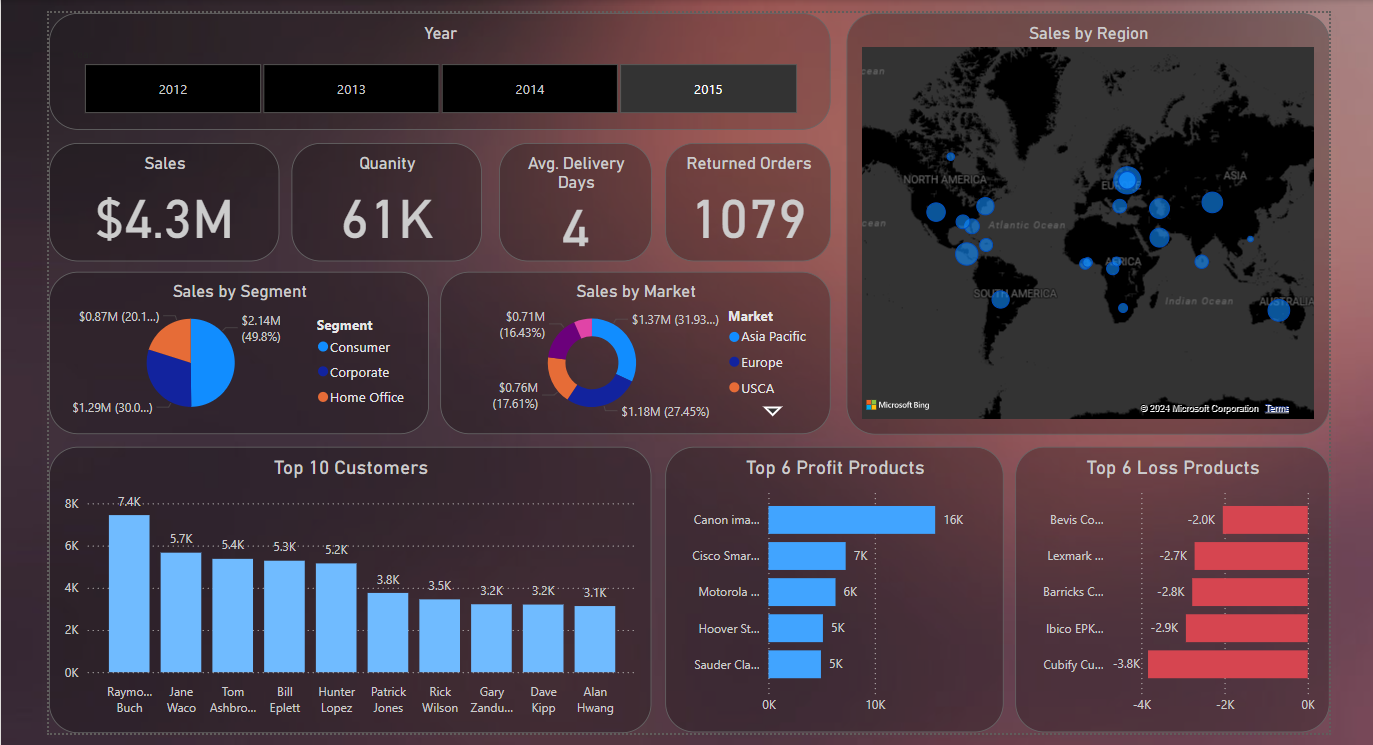

Layout of this report page (visuals, bound fields, positions):
{"tool":"powerbi","page":{"name":"Page 1","canvas":[1280,720],"ordinal":0},"visuals":[{"type":"card","title":"Sales","fields":{"Values":["Orders.Sales"]},"box":[0,130,230,118.6],"z":0},{"type":"card","title":"Quanity","fields":{"Values":["Orders.Quantity"]},"box":[242.9,130,190,118.6],"z":1000},{"type":"card","title":"Avg. Delivery Days","fields":{"Values":["Orders.delivery Days"]},"box":[450,130,152.9,118.6],"z":2000},{"type":"slicer","title":"Year","fields":{"Values":["Orders.Year"]},"box":[0,0,781.4,117.1],"z":3000},{"type":"card","title":"Returned Orders","fields":{"Values":["Returns.Return Orders"]},"box":[615.7,130,165.7,118.6],"z":4000},{"type":"map","title":"Sales by Region","fields":{"Category":["Orders.Region"],"Size":["Orders.Sales"]},"box":[797.1,0,482.9,421.4],"z":5000},{"type":"clusteredBarChart","title":"Top 6 Profit Products","fields":{"Y":["Orders.Profit"],"Category":["Orders.Product Name"]},"box":[615.7,434.3,338.6,285.7],"z":6000},{"type":"clusteredBarChart","title":"Top 6 Loss Products","fields":{"Y":["Orders.Profit"],"Category":["Orders.Product Name"]},"box":[965.7,434.3,314.3,285.7],"z":7000},{"type":"pieChart","title":"Sales by Segment","fields":{"Category":["Orders.Segment"],"Y":["Orders.Sales"]},"box":[0,258.8,380,162.5],"z":8000},{"type":"donutChart","title":"Sales by Market","fields":{"Y":["Orders.Sales"],"Category":["Orders.Market"]},"box":[391.2,258.8,390,162.5],"z":9000},{"type":"clusteredColumnChart","title":"Top 10 Customers","fields":{"Category":["Orders.Customer Name"],"Y":["Orders.Profit"]},"box":[0,433.8,602.5,286.2],"z":10000}]}

Visuals, with their boxes on the page's 1280x720 design canvas (x1, y1, x2, y2). These are canvas units, not pixel positions in the 1373x745 screenshot, which may show the page scaled, cropped or inside an application window:
"Sales" card: Rect(0, 130, 230, 249)
"Quanity" card: Rect(243, 130, 433, 249)
"Avg. Delivery Days" card: Rect(450, 130, 603, 249)
"Year" slicer: Rect(0, 0, 781, 117)
"Returned Orders" card: Rect(616, 130, 781, 249)
"Sales by Region" map: Rect(797, 0, 1280, 421)
"Top 6 Profit Products" clusteredBarChart: Rect(616, 434, 954, 720)
"Top 6 Loss Products" clusteredBarChart: Rect(966, 434, 1280, 720)
"Sales by Segment" pieChart: Rect(0, 259, 380, 421)
"Sales by Market" donutChart: Rect(391, 259, 781, 421)
"Top 10 Customers" clusteredColumnChart: Rect(0, 434, 602, 720)
